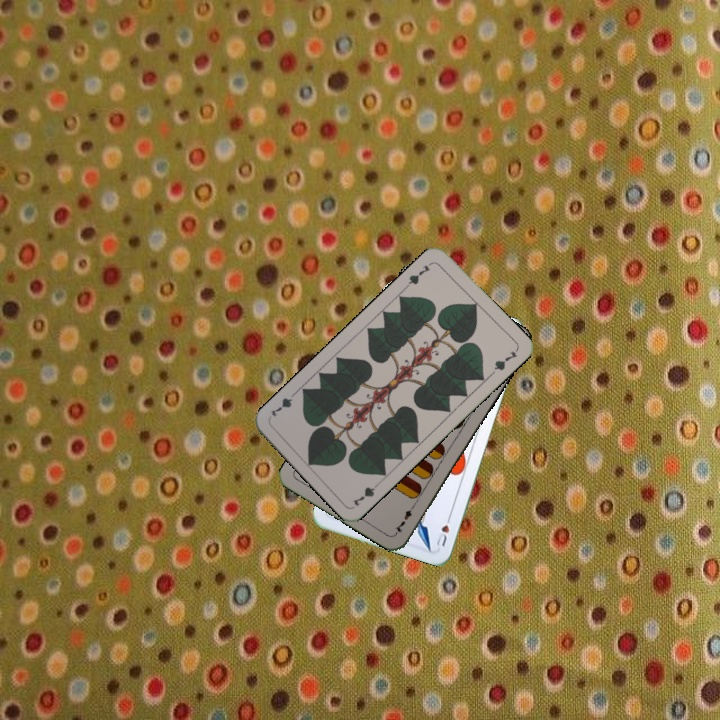E7: (390, 500, 418, 536)
G7: (348, 477, 383, 509), (402, 258, 435, 290)
HU: (432, 511, 454, 549)
